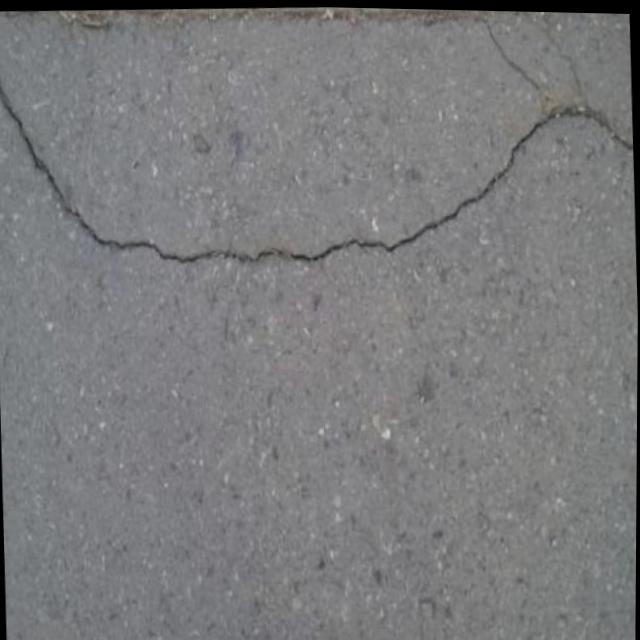Crack: (0, 50, 474, 305), (461, 8, 636, 231)
